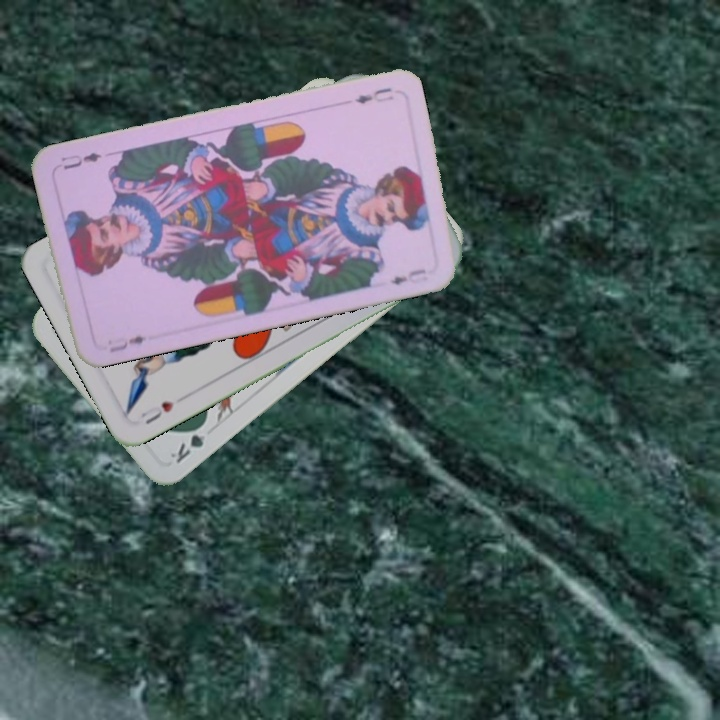EU: (350, 83, 396, 107), (105, 332, 149, 355)
GK: (166, 417, 211, 467)
HU: (136, 397, 177, 427)
